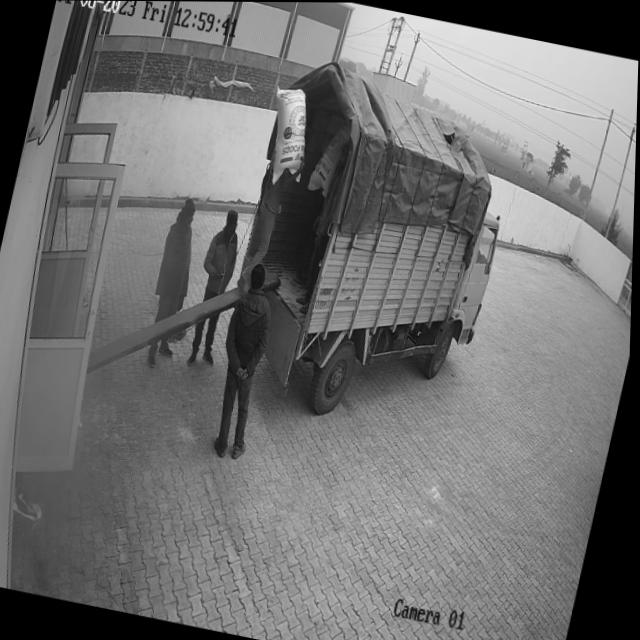sack: (258, 83, 321, 188), (306, 120, 354, 201)
